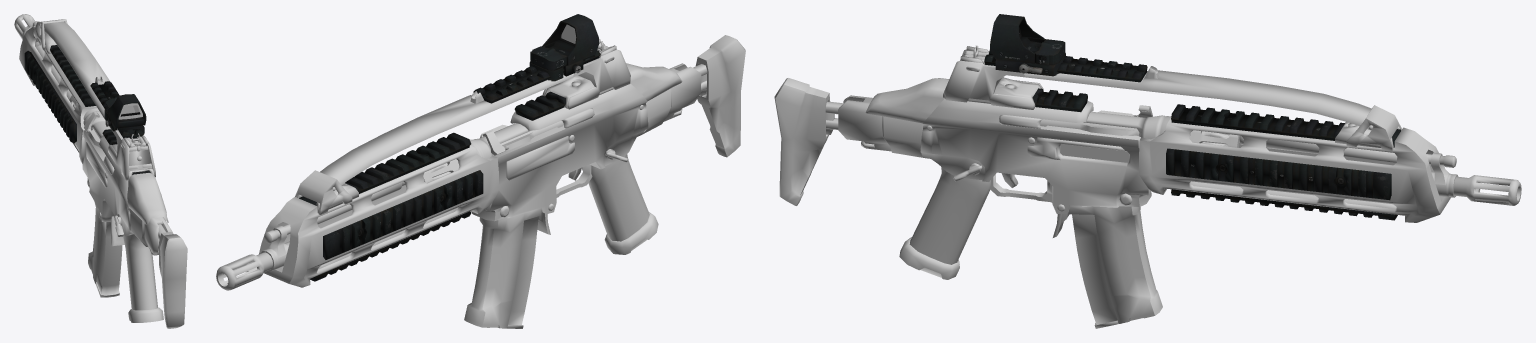
The model's file is scar.FBX.
The picture shows the model from 3 angles, left to right: view 1: azimuth 30°, elevation 25°; view 2: azimuth 150°, elevation 25°; view 3: azimuth 270°, elevation 25°; orthographic projection. The views are drawn at different scales.
Visible parts, largest first — view 1: lowpoly, top_ris02, sight_low, windows_low; view 2: lowpoly, top_ris02, sight_low; view 3: lowpoly, top_ris02, sight_low.
Part boxes in pixels (left/top/right/bottom): lowpoly: left=14, top=14, right=187, bottom=328; top_ris02: left=24, top=45, right=150, bottom=174; sight_low: left=104, top=94, right=146, bottom=133; windows_low: left=118, top=103, right=142, bottom=119; lowpoly: left=216, top=35, right=745, bottom=328; top_ris02: left=299, top=50, right=600, bottom=281; sight_low: left=529, top=14, right=599, bottom=81; lowpoly: left=774, top=45, right=1521, bottom=328; top_ris02: left=984, top=50, right=1400, bottom=220; sight_low: left=990, top=14, right=1065, bottom=76.
Size of the model in its own units: 20.74 by 30.06 by 68.87.
